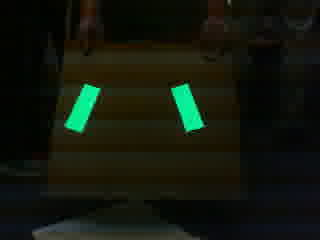target: (60, 80, 207, 135)
